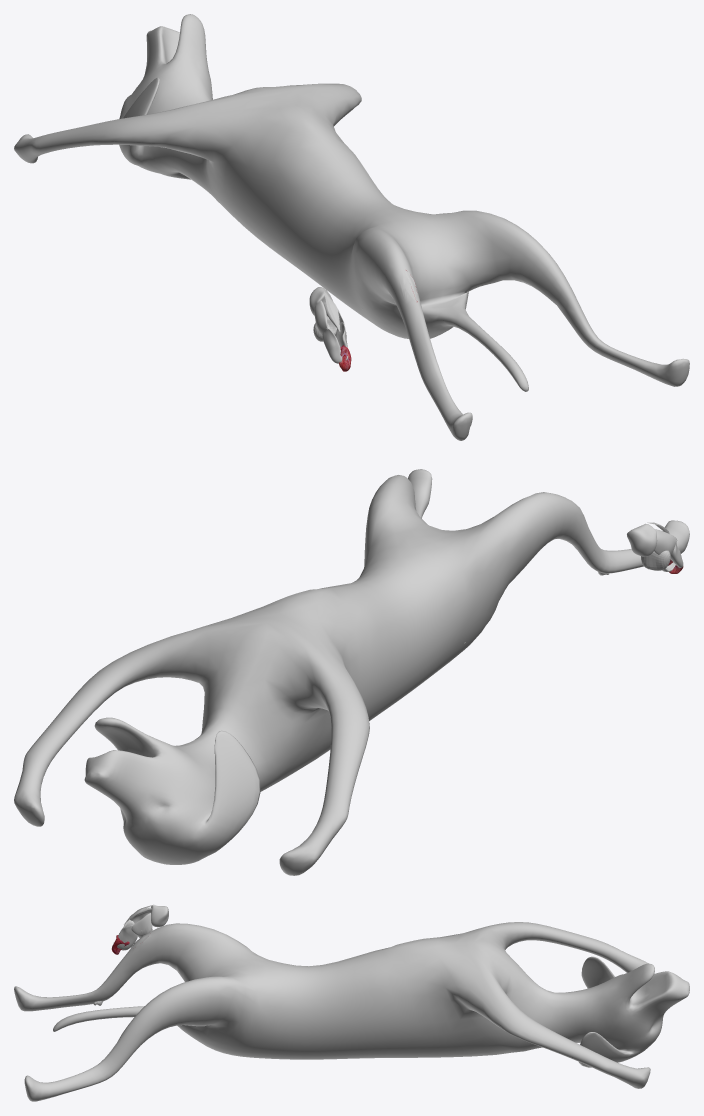
The picture shows the model from 3 angles, top to bottom: view 1: azimuth 30°, elevation 25°; view 2: azimuth 150°, elevation 25°; view 3: azimuth 270°, elevation 25°; orthographic projection. The views are drawn at different scales.
Visible parts, largest first — view 1: Dog.004; view 2: Dog.004, Muscle3.001; view 3: Dog.004, Muscle3.001, Muscle2.001.
Boxes of the visible parts, box(x1,y1,x2,y2) form: Dog.004: box(14, 14, 689, 440); Dog.004: box(14, 469, 689, 875); Muscle3.001: box(627, 523, 657, 556); Dog.004: box(14, 922, 689, 1101); Muscle3.001: box(151, 905, 168, 927); Muscle2.001: box(113, 925, 137, 950).
Size of the model in its own units: 0.4433 by 0.2081 by 1.06.
